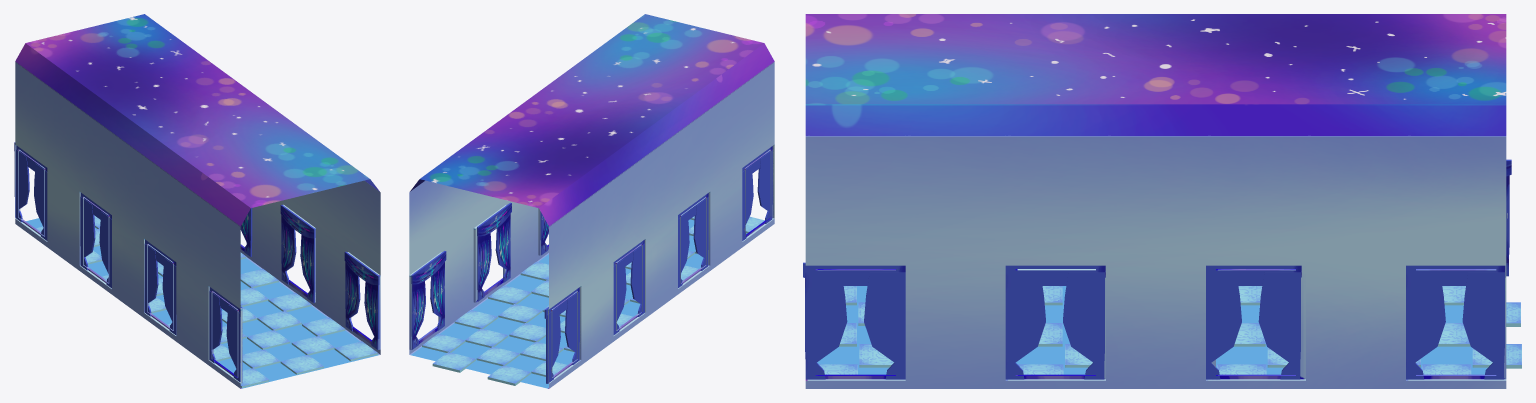
File: Hallwaygameready.fbx
The picture shows the model from 3 angles, left to right: view 1: azimuth 30°, elevation 25°; view 2: azimuth 150°, elevation 25°; view 3: azimuth 270°, elevation 25°; orthographic projection. The views are drawn at different scales.
Visible parts, largest first — view 1: Cube, Curtain2.005, Curtain2.006, Curtain2.004, Curtain2.002, Curtain2.001, Curtain2.003, regulartile.008, regulartile.002, regulartile.004, regulartile.007, regulartile.003 (+7 smaller); view 2: Cube, Curtain2.008, Curtain2.007, Curtain2.004, Curtain2.003, Curtain2.002, Curtain2.001, regulartile.031, regulartile.033, regulartile.023, regulartile.032, regulartile.029 (+6 smaller); view 3: Cube, Curtain2.005, Curtain2.006, Curtain2.008, Curtain2.007, regulartile.033, regulartile.022, regulartile.032, regulartile.003.
Part boxes in pixels (x1=…): Cube: x1=15, y1=14, x2=380, y2=388; Curtain2.005: x1=344, y1=251, x2=379, y2=349; Curtain2.006: x1=280, y1=204, x2=315, y2=302; Curtain2.004: x1=14, y1=142, x2=47, y2=240; Curtain2.002: x1=144, y1=239, x2=176, y2=334; Curtain2.001: x1=209, y1=287, x2=242, y2=381; Curtain2.003: x1=80, y1=192, x2=111, y2=288; regulartile.008: x1=257, y1=311, x2=301, y2=330; regulartile.002: x1=280, y1=355, x2=323, y2=374; regulartile.004: x1=334, y1=341, x2=377, y2=361; regulartile.007: x1=247, y1=330, x2=290, y2=349; regulartile.003: x1=291, y1=336, x2=334, y2=355; Cube: x1=409, y1=14, x2=774, y2=388; Curtain2.008: x1=411, y1=251, x2=446, y2=349; Curtain2.007: x1=477, y1=202, x2=511, y2=301; Curtain2.004: x1=544, y1=287, x2=579, y2=383; Curtain2.003: x1=613, y1=240, x2=644, y2=334; Curtain2.002: x1=678, y1=193, x2=708, y2=287; Curtain2.001: x1=742, y1=146, x2=772, y2=240; regulartile.031: x1=487, y1=365, x2=530, y2=385; regulartile.033: x1=432, y1=352, x2=475, y2=372; regulartile.023: x1=498, y1=304, x2=541, y2=323; regulartile.032: x1=476, y1=346, x2=520, y2=365; regulartile.029: x1=454, y1=310, x2=497, y2=329; Cube: x1=805, y1=14, x2=1506, y2=388; Curtain2.005: x1=803, y1=262, x2=905, y2=379; Curtain2.006: x1=1005, y1=265, x2=1105, y2=379; Curtain2.008: x1=1406, y1=265, x2=1505, y2=379; Curtain2.007: x1=1206, y1=265, x2=1301, y2=379; regulartile.033: x1=1472, y1=344, x2=1521, y2=368; regulartile.022: x1=1234, y1=323, x2=1265, y2=346; regulartile.032: x1=1437, y1=323, x2=1470, y2=346; regulartile.003: x1=859, y1=344, x2=893, y2=367.
Bounding box in the file's own units: 631 × 772 × 1811.
